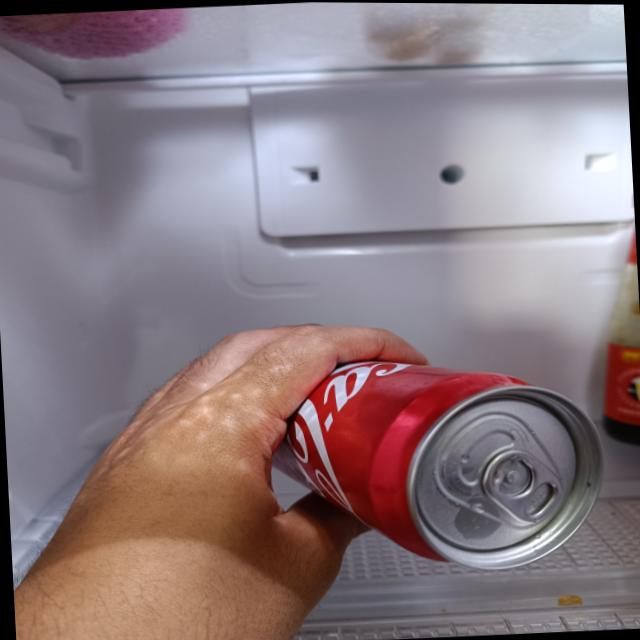coke: (237, 342, 609, 586)
